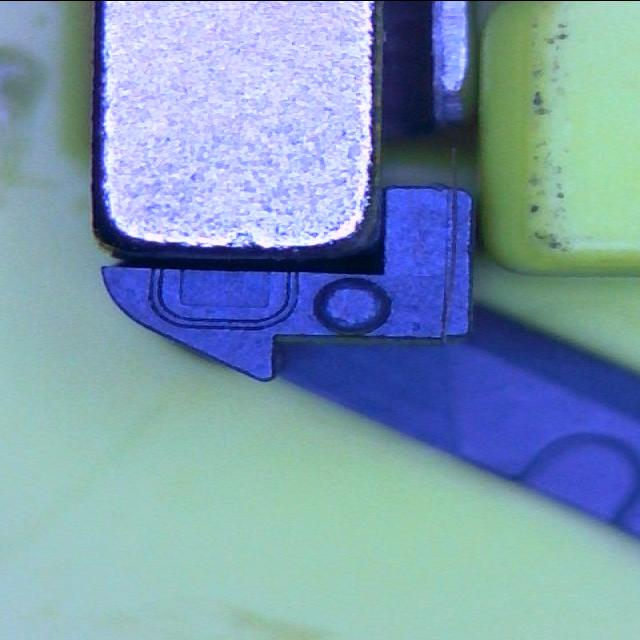noResin: (146, 264, 300, 328)
